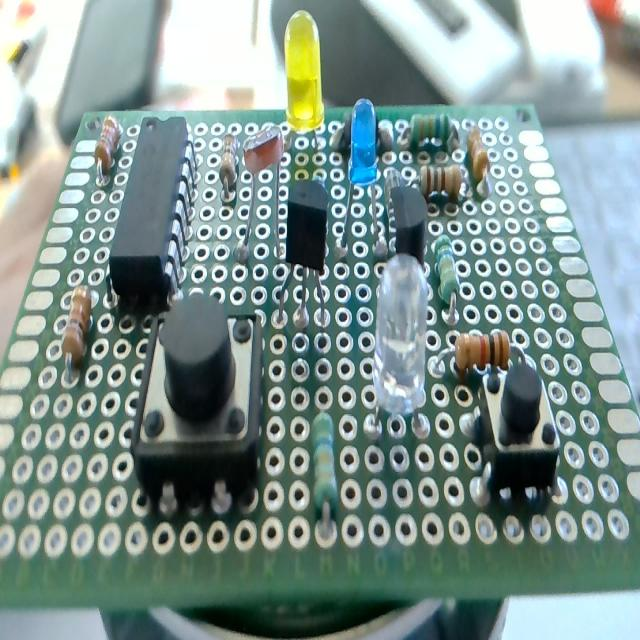IC: (108, 117, 194, 310)
cds: (234, 124, 284, 268)
led: (373, 254, 431, 417), (276, 8, 328, 160), (337, 96, 378, 260)
resistor: (435, 326, 514, 382), (312, 410, 338, 538), (62, 285, 94, 383), (403, 110, 457, 154), (463, 122, 491, 199), (94, 114, 123, 184), (432, 235, 458, 307), (421, 164, 462, 202), (220, 133, 240, 196)
switch: (132, 296, 264, 512), (476, 349, 560, 503)
transistor: (276, 180, 331, 333), (389, 184, 433, 275)
